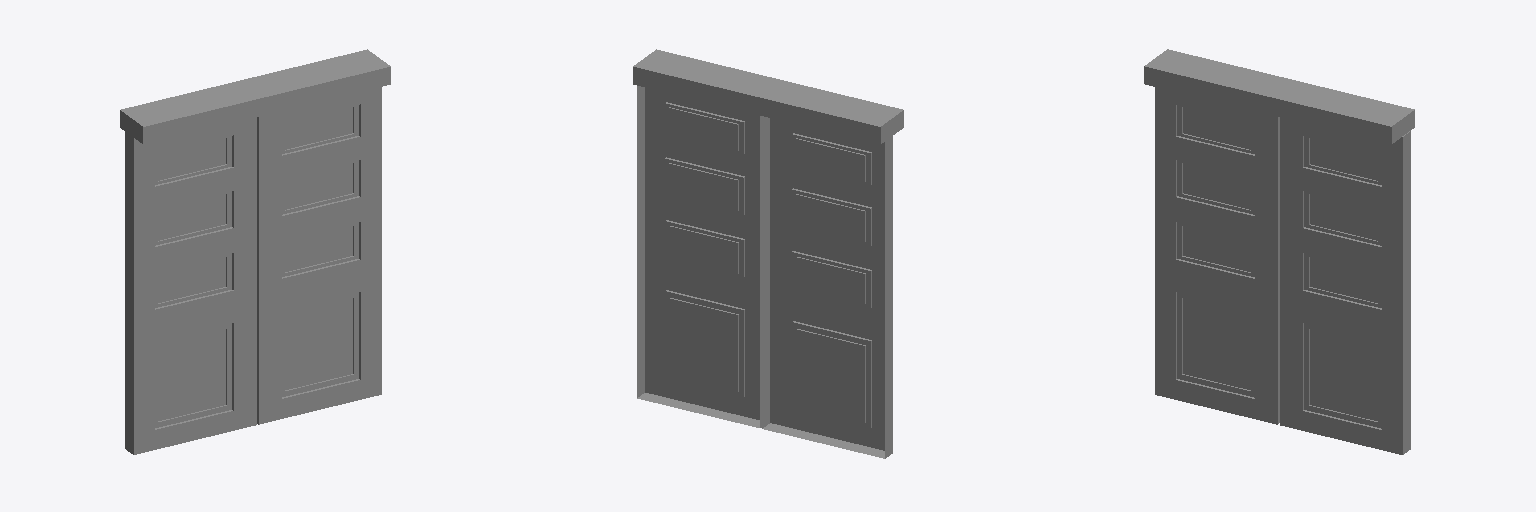
File: Door_Double.obj
3 renders of one model, left to right at view 1: azimuth 30°, elevation 25°; view 2: azimuth 150°, elevation 25°; view 3: azimuth 330°, elevation 25°, orthographic.
Visible parts, largest first — view 1: Door_Double_Cube.134; view 2: Door_Double_Cube.134; view 3: Door_Double_Cube.134.
Part boxes in pixels (bbox=[...]): Door_Double_Cube.134: bbox=[120, 49, 390, 454]; Door_Double_Cube.134: bbox=[633, 49, 903, 458]; Door_Double_Cube.134: bbox=[1144, 49, 1414, 454].
Bounding box in the file's own units: 0.7496 × 0.9677 × 0.1227.